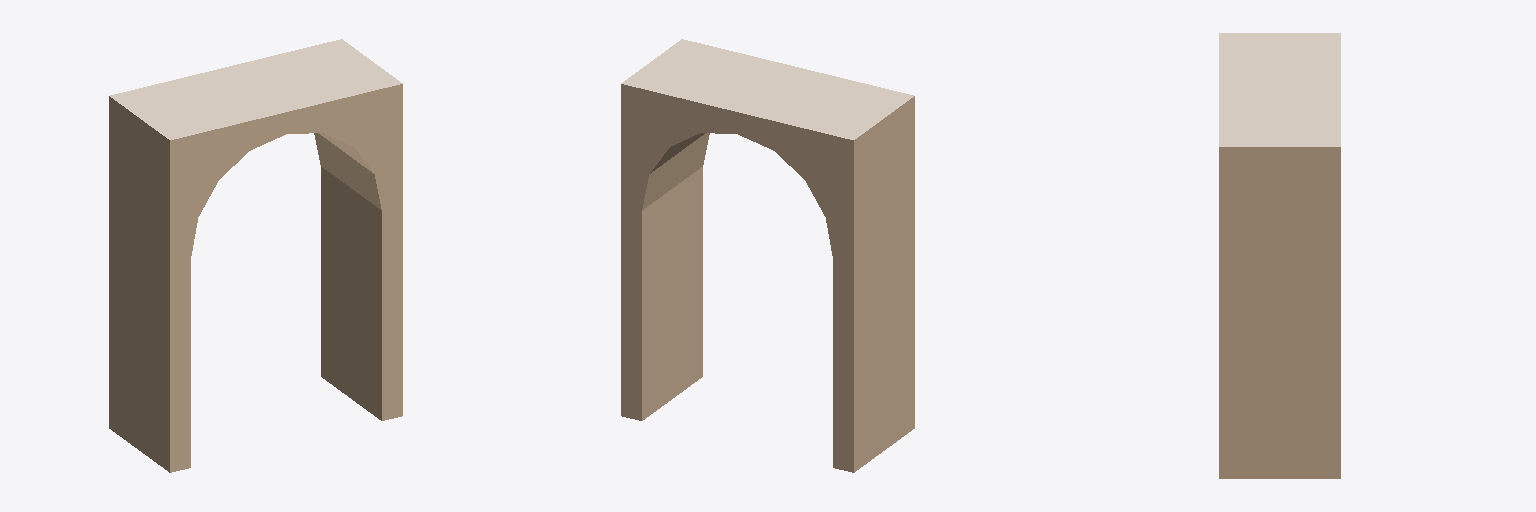
File: Wall_Straight_Doorway_Large_Extension.obj
3 renders of one model, left to right at view 1: azimuth 30°, elevation 25°; view 2: azimuth 150°, elevation 25°; view 3: azimuth 270°, elevation 25°, orthographic.
Visible parts, largest first — view 1: object1; view 2: object1; view 3: object1.
Part boxes in pixels (x1,y1,x2,y2): object1: (109,39,402,472); object1: (621,39,914,472); object1: (1219,33,1340,478).
Bounding box in the file's own units: 2.2 × 3 × 1.